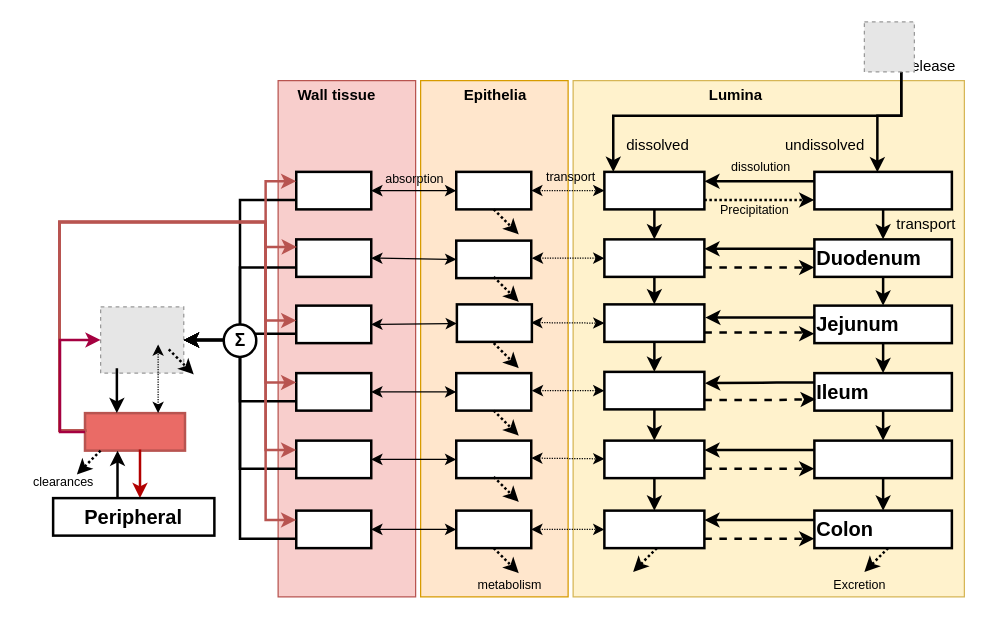
This 988x626 diagram has some shape labels left out. Grey dashed boxes stand in for pictures. The box of each missing label's shape, as (x1, y1, x2, y2) in pixels:
Cecum: (812, 439, 952, 479)
Central: (83, 411, 186, 451)
Stomach: (812, 170, 952, 210)
